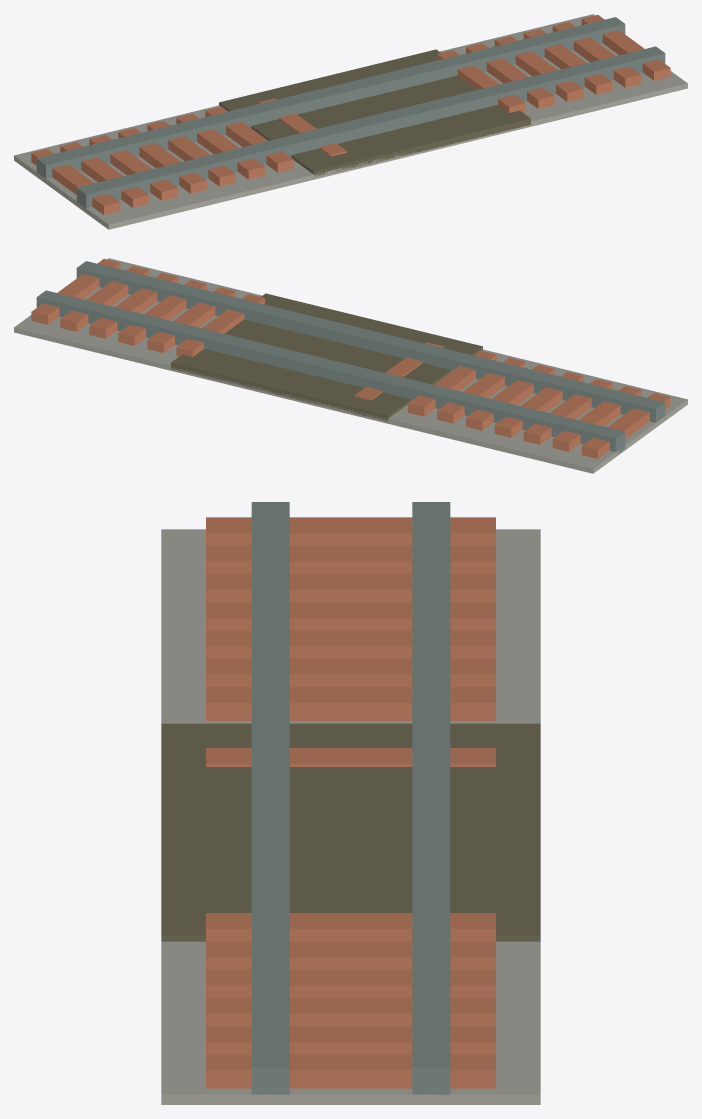
The model's file is SM_ViaRota_v2_Socavon_LOD1.fbx.
3 views of the same model, one above another, from view 1: azimuth 30°, elevation 25°; view 2: azimuth 150°, elevation 25°; view 3: azimuth 270°, elevation 25° (orthographic). The views are drawn at different scales.
Visible parts, largest first — view 1: SM_aqui_paso_algo_v7_LOD1; view 2: SM_aqui_paso_algo_v7_LOD1; view 3: SM_aqui_paso_algo_v7_LOD1.
Boxes of the visible parts, x1,y1,x2,y2 form: SM_aqui_paso_algo_v7_LOD1: (14,14,687,229); SM_aqui_paso_algo_v7_LOD1: (14,258,687,473); SM_aqui_paso_algo_v7_LOD1: (161,502,540,1104).
Size of the model in its own units: 12 by 0.46 by 3.4.
